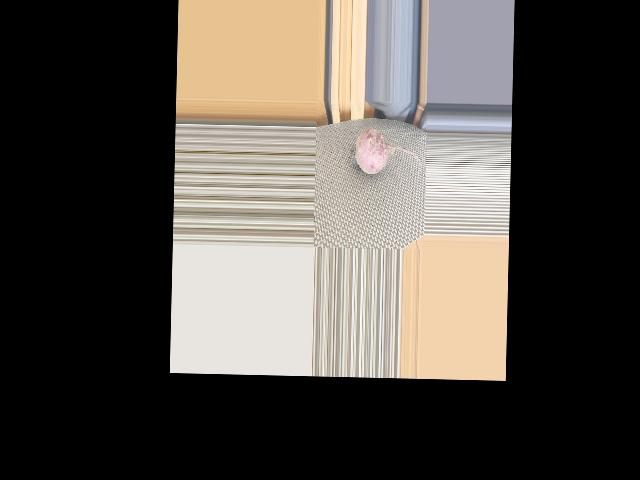beet: (348, 127, 421, 174)
